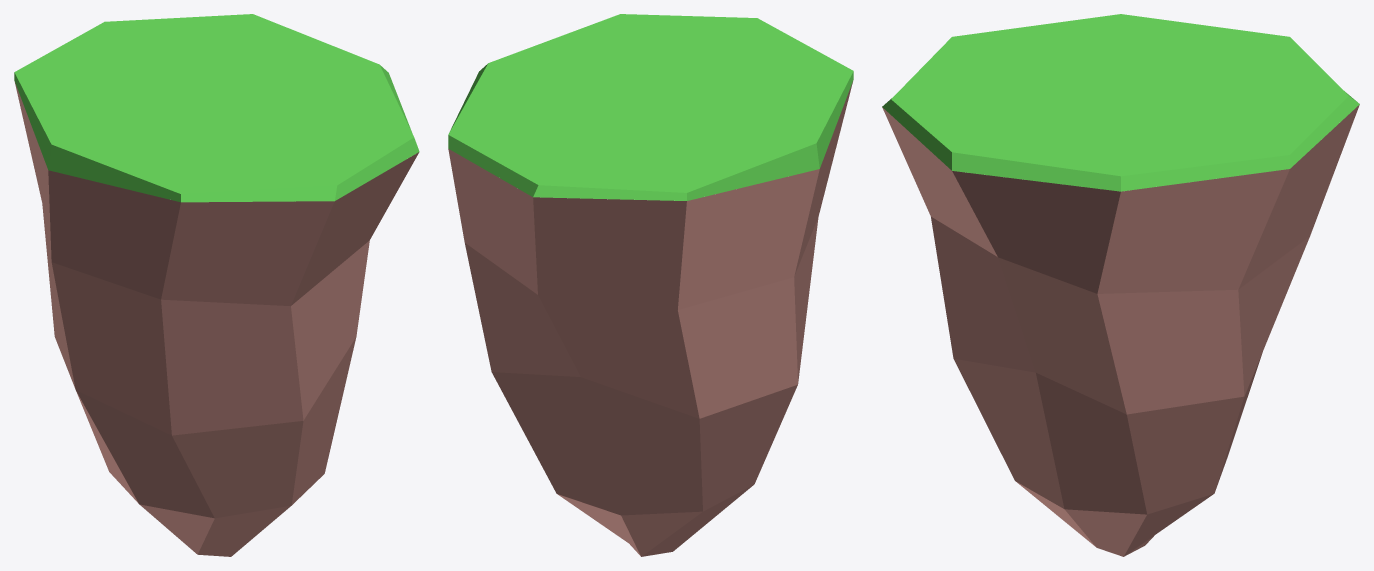
The model's file is island2-transformed.glb.
3 renders of one model, left to right at view 1: azimuth 30°, elevation 25°; view 2: azimuth 150°, elevation 25°; view 3: azimuth 270°, elevation 25°, orthographic.
Visible parts, largest first — view 1: Cylinder; view 2: Cylinder; view 3: Cylinder.
Part boxes in pixels (x1=…): Cylinder: x1=14, y1=14, x2=419, y2=556; Cylinder: x1=448, y1=14, x2=853, y2=556; Cylinder: x1=882, y1=14, x2=1359, y2=556.
Bounding box in the file's own units: 1.2 × 1.5 × 1.44.
